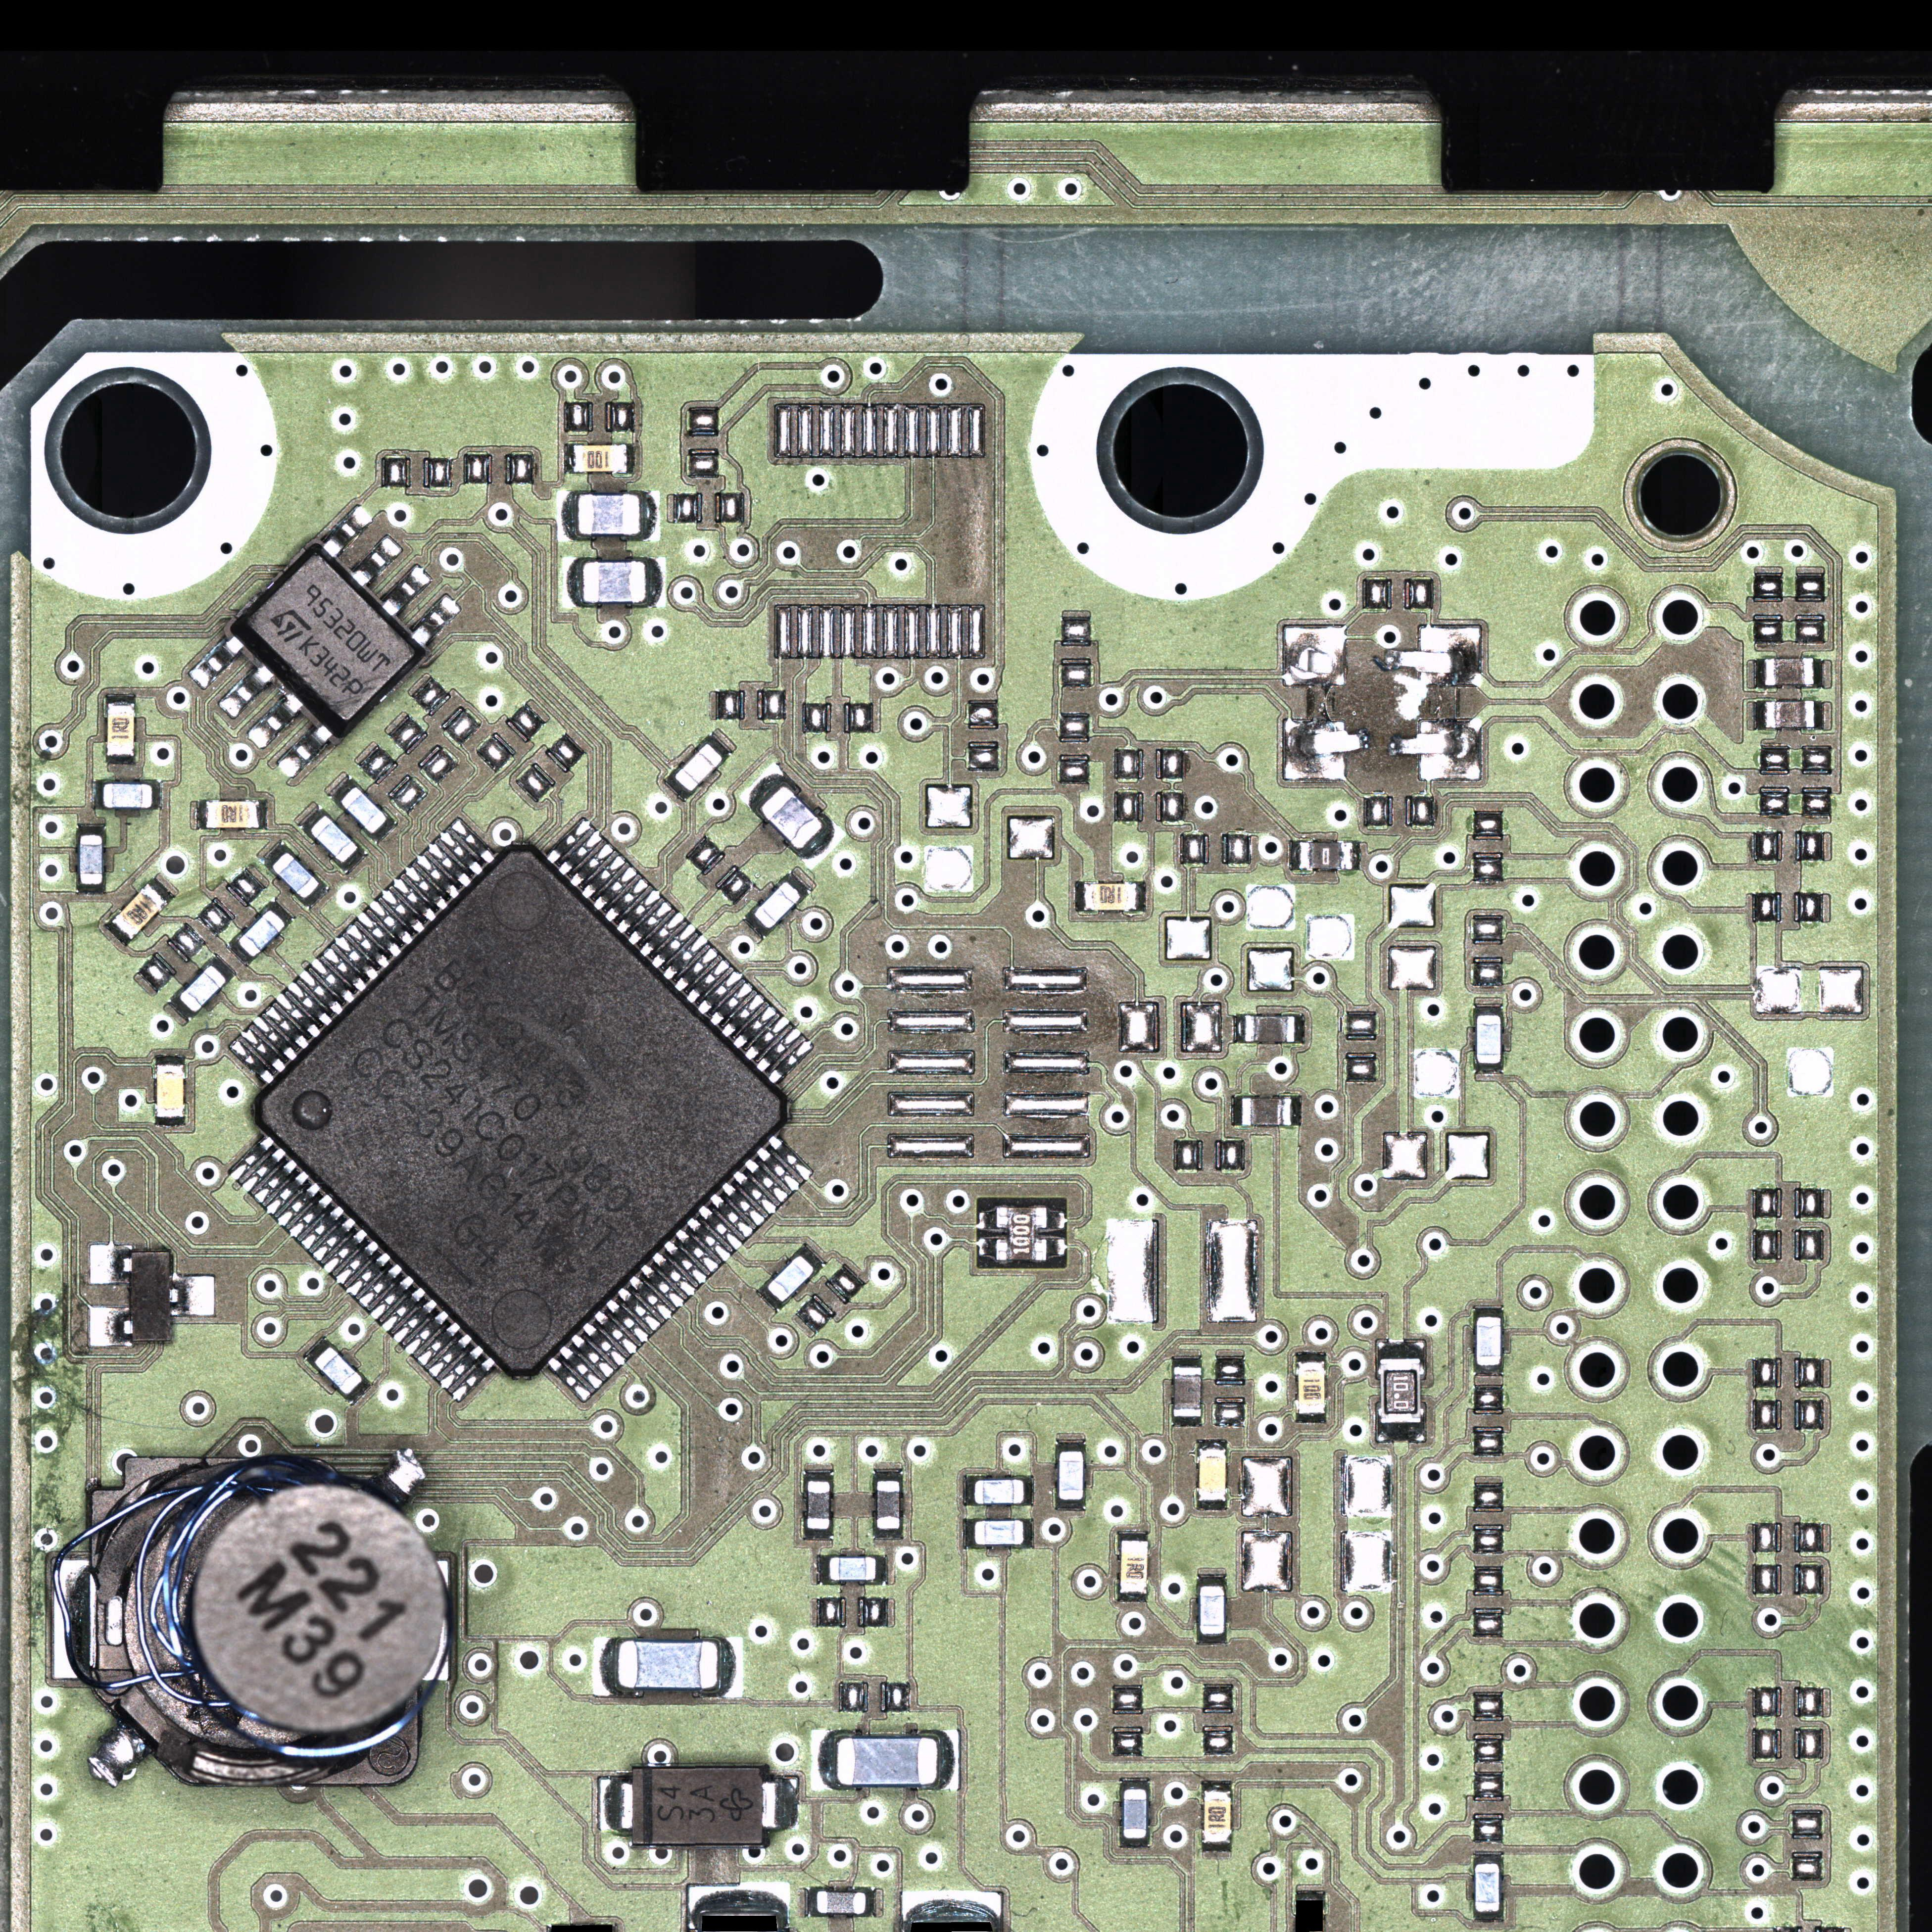Package: (249, 839, 796, 1384), (88, 1445, 446, 1785), (244, 550, 419, 724), (633, 1767, 763, 1844), (617, 1640, 718, 1690), (757, 784, 826, 853), (835, 1739, 938, 1785), (110, 883, 168, 939), (133, 1253, 170, 1339), (996, 1207, 1047, 1260), (752, 879, 803, 931), (1380, 1359, 1421, 1422), (577, 495, 642, 534), (338, 786, 389, 835), (308, 814, 359, 863), (237, 908, 287, 959), (766, 1253, 816, 1304), (313, 1346, 364, 1396), (582, 563, 646, 602), (271, 851, 320, 901), (674, 743, 724, 793), (179, 964, 228, 1014), (573, 444, 628, 474), (1083, 883, 1138, 911), (156, 1065, 184, 1118), (106, 704, 134, 757), (1120, 1541, 1148, 1594), (1297, 1361, 1325, 1414), (205, 801, 260, 828), (1300, 842, 1352, 870), (1173, 1366, 1201, 1417), (1205, 1790, 1231, 1844), (1200, 1449, 1226, 1502), (1242, 1097, 1292, 1125), (1246, 1014, 1295, 1042), (1764, 701, 1815, 727), (1764, 658, 1813, 685), (1474, 1863, 1500, 1913), (1200, 1585, 1224, 1635), (103, 784, 152, 809), (975, 1520, 1024, 1545), (876, 1481, 901, 1529), (828, 1557, 876, 1582), (973, 1481, 1024, 1504), (1123, 1789, 1146, 1838), (1060, 1451, 1083, 1500), (80, 835, 103, 885), (1477, 1316, 1500, 1366), (807, 1481, 830, 1529), (817, 1891, 865, 1914), (1477, 1016, 1500, 1063)
Solder: (242, 688, 308, 754), (184, 630, 248, 694), (55, 1560, 88, 1679), (214, 660, 278, 722), (272, 720, 334, 782), (377, 563, 435, 619), (407, 593, 465, 649), (320, 502, 375, 559), (349, 534, 403, 589), (764, 1035, 819, 1088), (658, 931, 713, 984), (448, 1353, 501, 1407), (352, 908, 405, 961), (329, 931, 382, 984), (752, 1024, 807, 1076), (423, 1330, 478, 1382), (235, 1024, 290, 1076), (375, 885, 430, 936), (421, 839, 476, 890), (902, 1893, 1001, 1921), (740, 1012, 793, 1063), (694, 966, 747, 1017), (648, 920, 701, 971), (635, 908, 688, 959), (612, 885, 665, 936), (554, 828, 607, 879), (237, 1145, 290, 1196), (435, 1343, 488, 1394), (377, 1284, 430, 1336), (341, 1249, 395, 1300), (329, 1237, 382, 1288), (248, 1012, 301, 1063), (283, 978, 336, 1030), (400, 862, 453, 913), (387, 874, 441, 925), (364, 897, 418, 948), (612, 1284, 665, 1336), (625, 1272, 678, 1323), (648, 1249, 701, 1300), (729, 1001, 780, 1053), (706, 978, 757, 1030), (566, 840, 617, 892), (389, 1295, 441, 1346), (354, 1261, 405, 1313), (308, 955, 359, 1007), (579, 1320, 630, 1371), (754, 1145, 805, 1196), (796, 819, 847, 870), (271, 991, 324, 1040), (433, 828, 487, 878), (410, 851, 464, 901), (729, 1168, 782, 1217), (738, 763, 791, 812), (690, 1886, 789, 1913), (683, 955, 734, 1005), (671, 945, 722, 994), (625, 899, 676, 948), (602, 874, 651, 925), (589, 863, 640, 913), (226, 1134, 278, 1184), (262, 1168, 311, 1219), (272, 1180, 324, 1230), (285, 1192, 336, 1242), (414, 1320, 465, 1369), (366, 1274, 418, 1323), (402, 1307, 453, 1357), (320, 1226, 372, 1276), (297, 1203, 349, 1253), (226, 1037, 278, 1086), (262, 1003, 313, 1053), (295, 968, 347, 1017), (341, 922, 393, 971), (318, 947, 370, 996), (448, 817, 499, 867), (589, 1307, 640, 1357), (602, 1297, 653, 1346), (706, 1191, 757, 1240), (694, 1203, 745, 1253), (683, 1215, 734, 1265), (671, 1226, 722, 1276), (637, 1261, 688, 1311), (764, 1134, 816, 1184), (718, 991, 768, 1040), (579, 851, 628, 901), (251, 1157, 301, 1207), (310, 1215, 359, 1265), (556, 1343, 605, 1392), (568, 1332, 617, 1382), (718, 1180, 768, 1230), (660, 1238, 709, 1288), (543, 1355, 593, 1405), (543, 817, 594, 865), (741, 1157, 791, 1205), (763, 1780, 800, 1829), (170, 1276, 214, 1316), (90, 1244, 133, 1284), (600, 1778, 633, 1829), (90, 1307, 133, 1346), (591, 1637, 617, 1697), (718, 1637, 743, 1697), (810, 1730, 835, 1789), (939, 1729, 959, 1790), (556, 490, 577, 541), (646, 556, 665, 609), (642, 490, 662, 541), (563, 557, 582, 607), (1376, 1339, 1424, 1359), (301, 881, 331, 909), (796, 1244, 826, 1272), (1378, 1424, 1424, 1442), (299, 805, 327, 833), (704, 732, 732, 761), (226, 938, 255, 966), (345, 1378, 373, 1407), (103, 920, 133, 947), (370, 817, 398, 844), (329, 777, 357, 803), (340, 846, 368, 872), (665, 775, 694, 801), (743, 911, 770, 939), (267, 899, 295, 925), (209, 954, 237, 980), (147, 876, 175, 902), (304, 1338, 333, 1364), (262, 842, 288, 869), (168, 994, 195, 1021), (784, 872, 812, 897), (755, 1286, 784, 1311), (975, 1238, 996, 1256), (975, 1212, 996, 1230), (1047, 1212, 1069, 1230), (1047, 1238, 1069, 1256), (1196, 1576, 1228, 1587), (1292, 1095, 1302, 1127), (196, 800, 205, 830), (803, 1472, 833, 1481), (1292, 840, 1300, 870), (1233, 1095, 1242, 1125), (1237, 1014, 1246, 1044), (1196, 1635, 1226, 1644), (1474, 1063, 1504, 1072), (876, 1555, 885, 1585), (819, 1555, 828, 1585), (803, 1529, 833, 1537), (1295, 1016, 1304, 1044), (1297, 1414, 1325, 1422), (1120, 1838, 1148, 1847), (156, 1056, 184, 1065), (1755, 701, 1764, 729), (807, 1888, 816, 1916), (94, 780, 103, 809), (1203, 1844, 1231, 1852), (1474, 1854, 1502, 1863), (1297, 1891, 1325, 1900), (564, 442, 571, 474), (1171, 1417, 1203, 1424), (1196, 1440, 1228, 1447), (1116, 1594, 1148, 1601), (154, 1118, 186, 1125), (966, 1518, 973, 1550), (867, 1888, 874, 1918), (1138, 881, 1145, 911), (1054, 1444, 1085, 1451), (1757, 658, 1764, 688), (1171, 1359, 1201, 1366), (1076, 881, 1083, 911), (1056, 1500, 1086, 1507), (1815, 658, 1822, 688), (1474, 1309, 1504, 1316), (1120, 1782, 1150, 1789), (872, 1472, 902, 1479), (76, 885, 106, 892), (106, 695, 136, 702), (106, 757, 136, 764), (1198, 1502, 1228, 1509), (1118, 1534, 1148, 1541), (1201, 1783, 1231, 1790), (1474, 1913, 1504, 1920), (872, 1530, 902, 1537), (1295, 1353, 1325, 1361), (1024, 1476, 1031, 1506), (966, 1476, 973, 1506), (1024, 1518, 1031, 1548), (1474, 1366, 1504, 1373), (260, 800, 267, 828), (1474, 1007, 1502, 1014), (1815, 701, 1822, 729), (76, 828, 106, 833), (154, 778, 159, 809), (628, 444, 633, 474), (1353, 840, 1359, 870)
